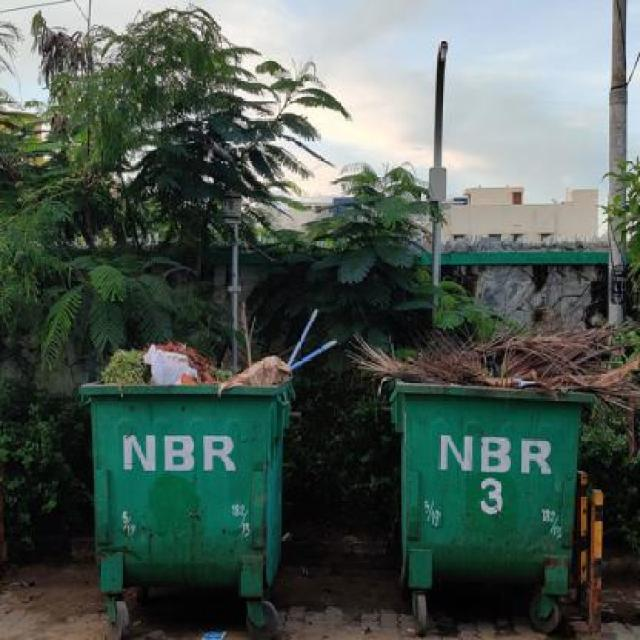garbage container: (63, 378, 303, 640), (381, 375, 606, 640)
